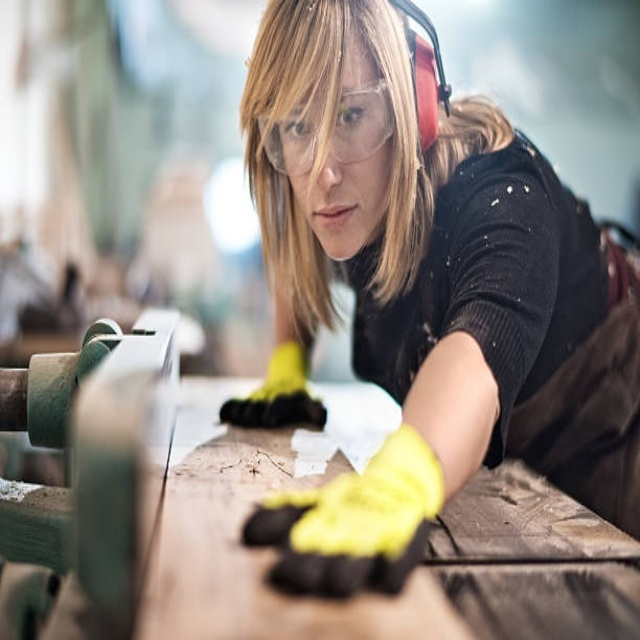Gafas: (259, 77, 395, 173)
Guantes: (235, 411, 449, 598), (219, 336, 329, 433)
Sin_mascara: (306, 195, 371, 259)
